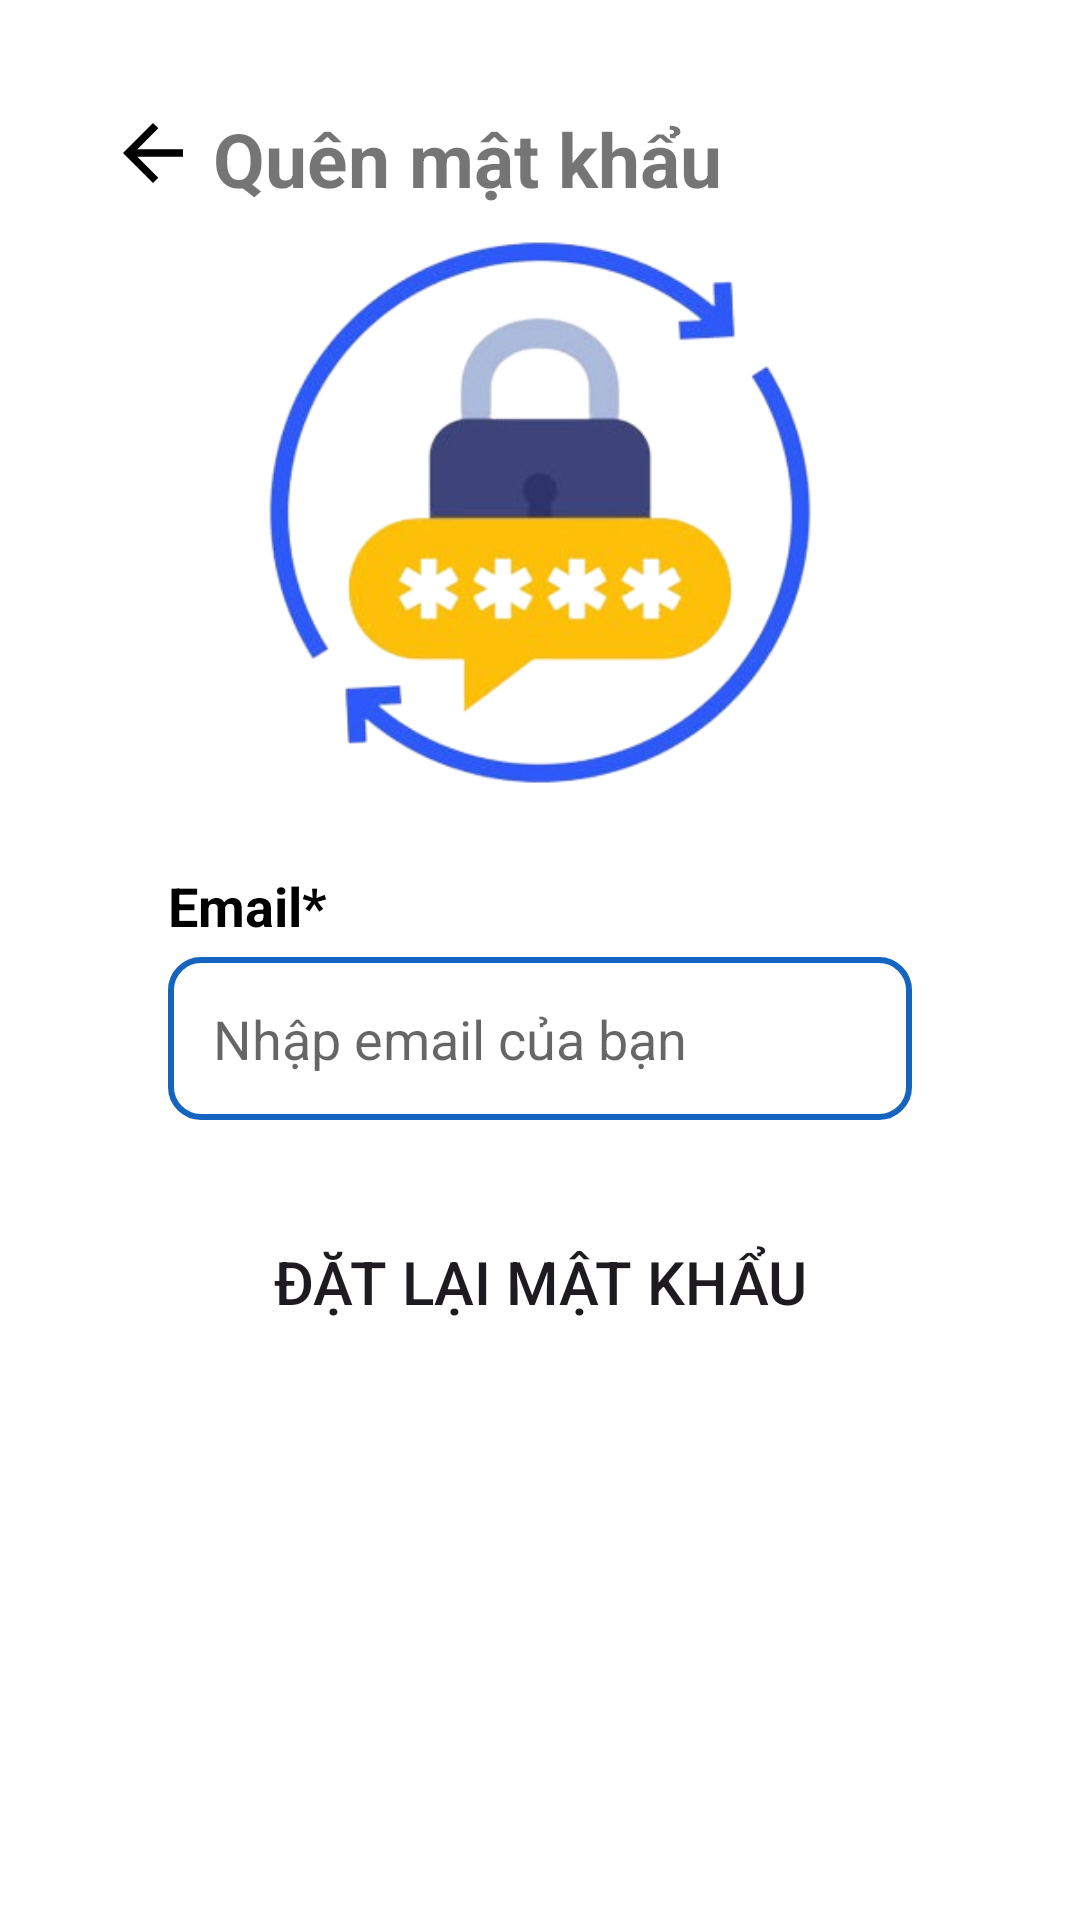

Icons on this 1080 x 1920 Android screen, each with the point to tap as (x=x, y=y):
arrow back: (x=153, y=153)
